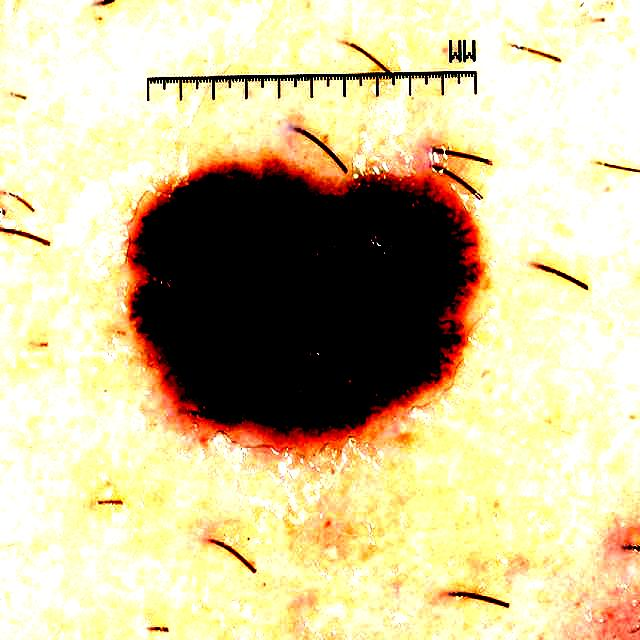MEL: (133, 168, 478, 430)
